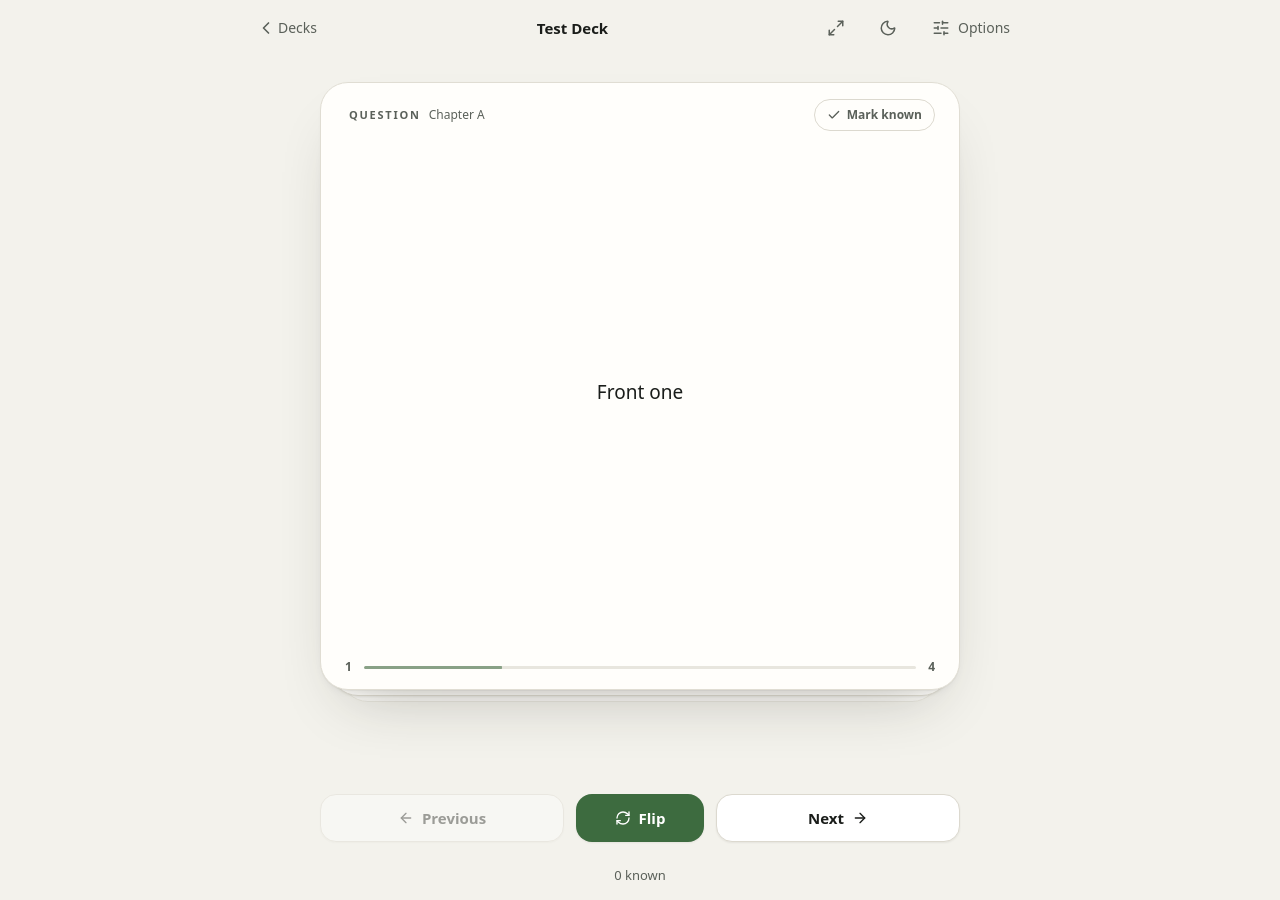
Test: shuffle and restart › toggles shuffle and keeps every card in the run
What coordinates should you click on to do the following:
click the button with aria-label "Study options"
I would click on:
 (971, 28)
Its box is [918,6,1024,50].
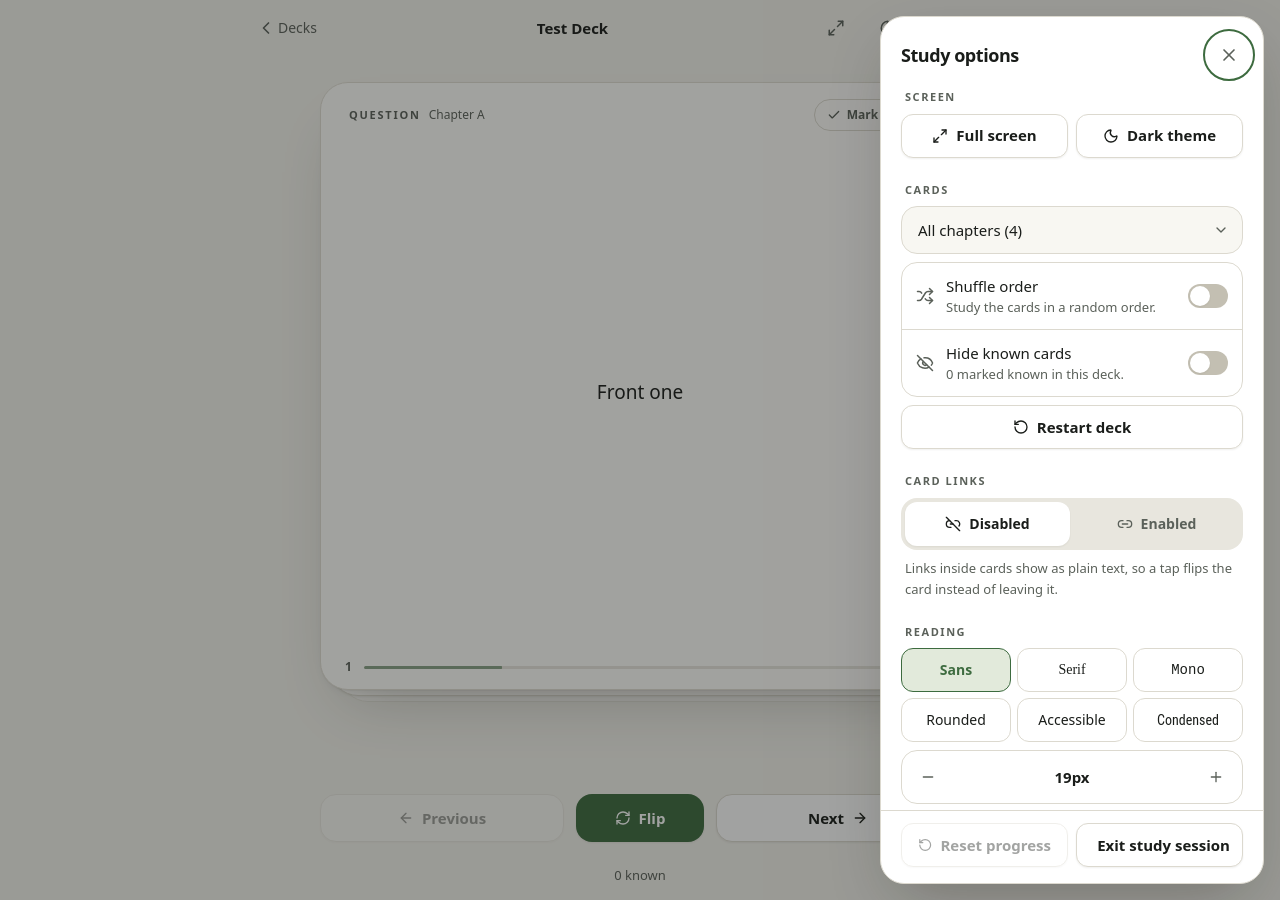
What coordinates should you click on to do the following:
click the switch labelled "Shuffle order"
I would click on:
 (1072, 296)
Its box is [902,263,1242,330].
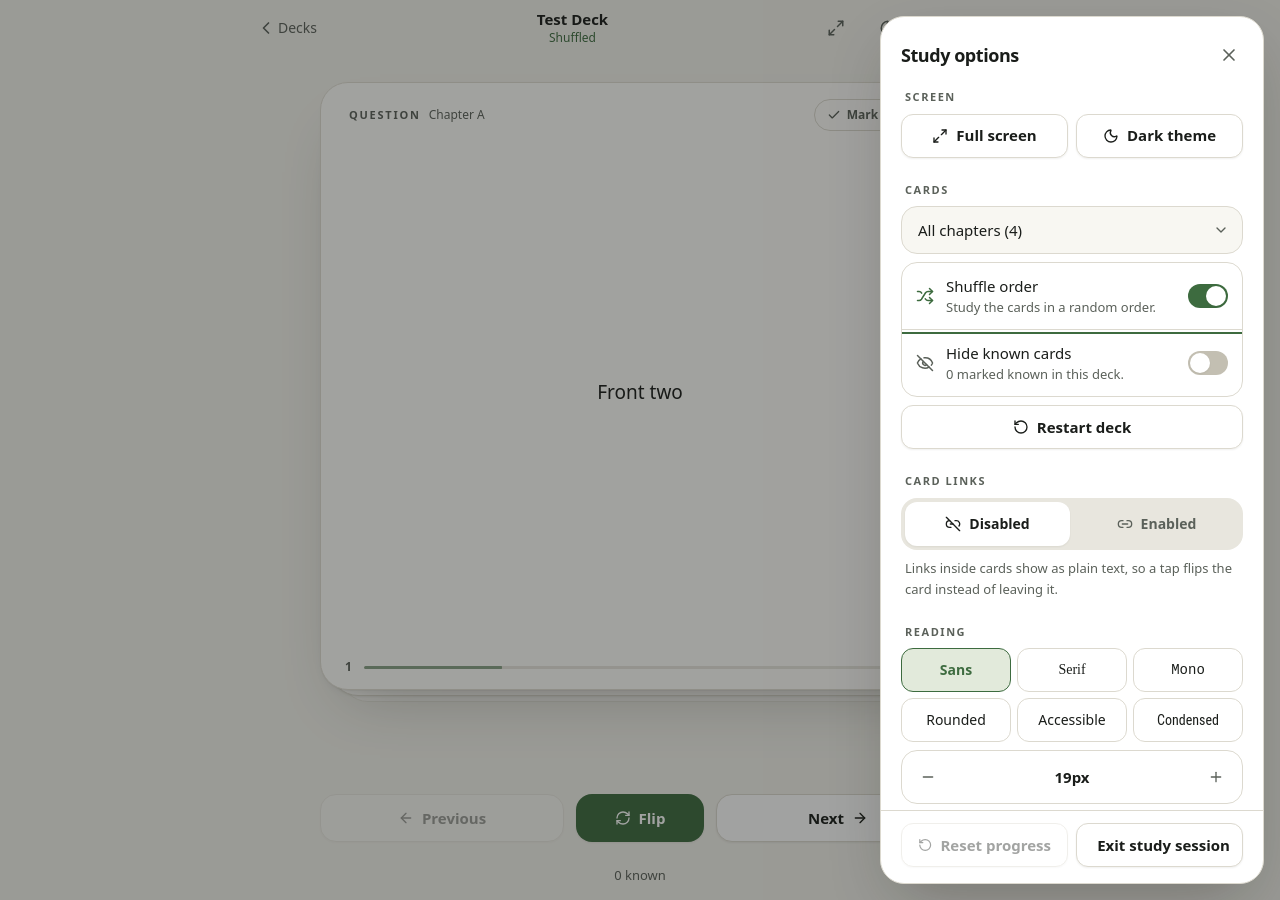
Expected: the switch labelled "Shuffle order" is checked
What coordinates should you click on to do the following:
click the switch labelled "Shuffle order"
I would click on:
 (1072, 296)
Its box is [902,263,1242,330].
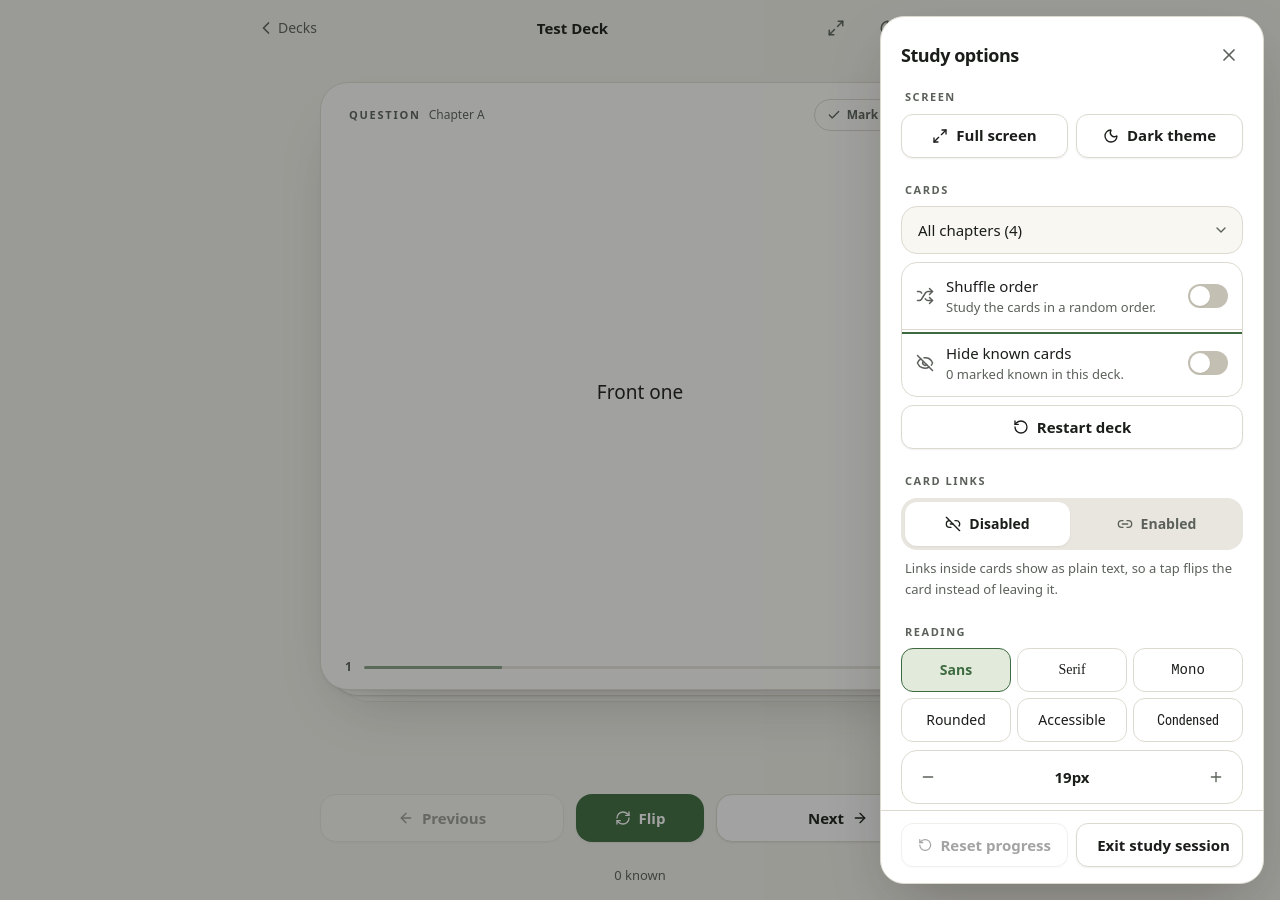
Expected: the text "Front one" is shown, [597,379,683,405]
